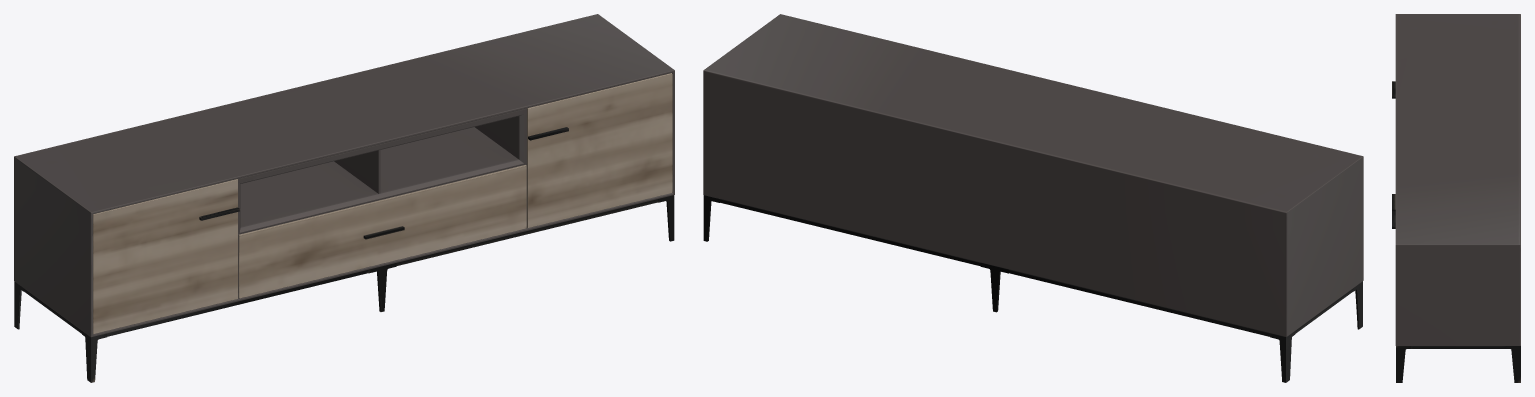
Rendered from TV_Stand_3adeef65-7c72-5602-ab21-3b7e3e51e2ed.glb.
The picture shows the model from 3 angles, left to right: view 1: azimuth 30°, elevation 25°; view 2: azimuth 150°, elevation 25°; view 3: azimuth 270°, elevation 25°; orthographic projection. The views are drawn at different scales.
Parts seen in each view (by area): view 1: raw_model.obj; view 2: raw_model.obj; view 3: raw_model.obj.
Boxes of the visible parts, x1,y1,x2,y2 form: raw_model.obj: [14, 14, 674, 382]; raw_model.obj: [703, 14, 1363, 382]; raw_model.obj: [1392, 14, 1520, 382].
Bounding box in the file's own units: 2.27 × 0.6332 × 0.5342.
1 material, 1 textured.
